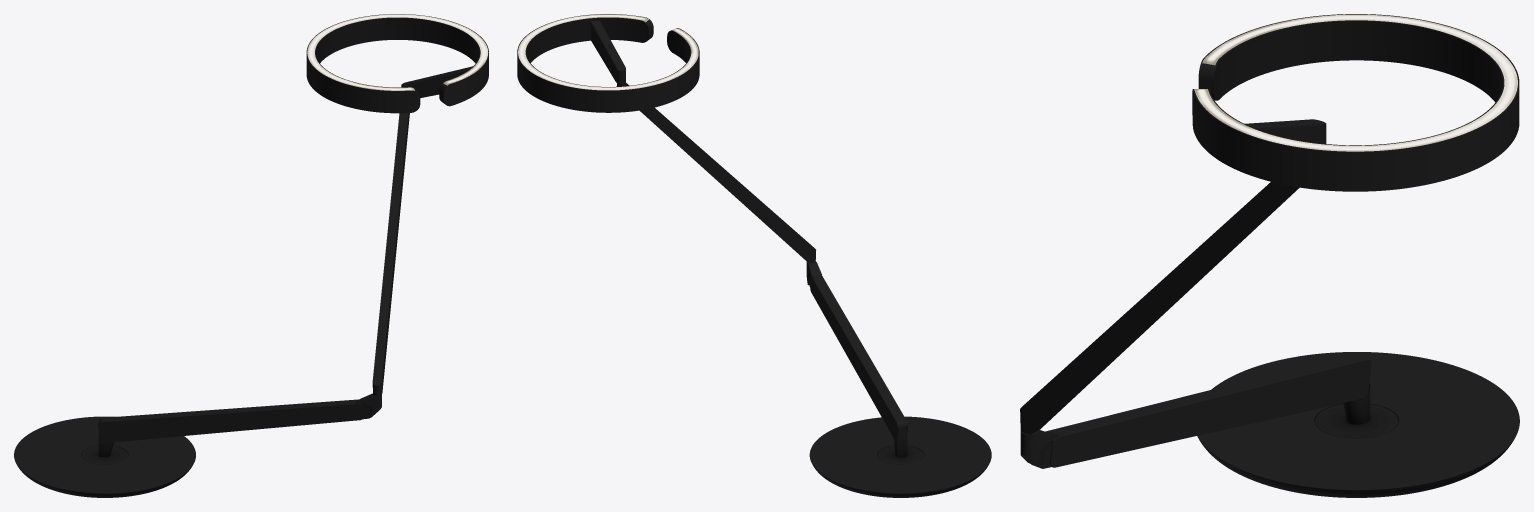
The model's file is Asset3.glb.
The picture shows the model from 3 angles, left to right: view 1: azimuth 30°, elevation 25°; view 2: azimuth 150°, elevation 25°; view 3: azimuth 270°, elevation 25°; orthographic projection. The views are drawn at different scales.
Visible parts, largest first — view 1: base, headBrushed, body01, body02, headLedUp, headGlossy, baseCenter, forkLid; view 2: base, headBrushed, body01, body02, headLedUp, forkLid, baseCenter, headGlossy; view 3: base, headBrushed, body01, body02, headLedUp, baseCenter, headGlossy, forkLid, joint.
Boxes of the visible parts, x1,y1,x2,y2 form: base: [14, 416, 195, 497]; headBrushed: [306, 18, 488, 113]; body01: [97, 399, 363, 442]; body02: [372, 113, 409, 396]; headLedUp: [307, 14, 488, 90]; headGlossy: [306, 14, 488, 103]; baseCenter: [82, 434, 128, 464]; forkLid: [401, 66, 472, 97]; base: [809, 416, 991, 497]; headBrushed: [517, 18, 699, 112]; body01: [810, 275, 907, 441]; body02: [616, 83, 815, 263]; headLedUp: [518, 14, 698, 90]; forkLid: [590, 20, 625, 84]; baseCenter: [877, 425, 923, 464]; headGlossy: [517, 14, 699, 90]; base: [1197, 352, 1519, 497]; headBrushed: [1192, 21, 1519, 191]; body01: [1045, 354, 1371, 467]; body02: [1020, 182, 1299, 434]; headLedUp: [1194, 14, 1517, 151]; baseCenter: [1315, 383, 1398, 438]; headGlossy: [1193, 14, 1519, 152]; forkLid: [1244, 119, 1326, 143]; joint: [1020, 430, 1057, 468].
Bounding box in the file's own units: 0.8555 × 0.6191 × 0.4586.
11 materials, 9 textured.
